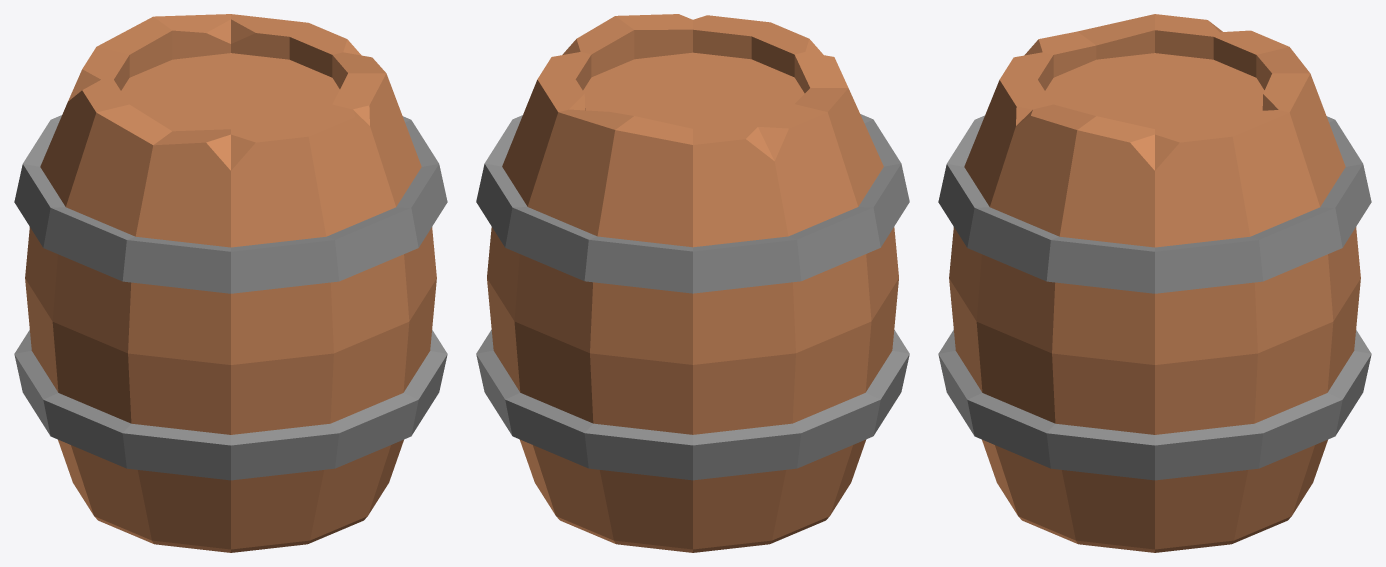
Rendered from oka.fbx.
3 views of the same model, side by side, from view 1: azimuth 30°, elevation 25°; view 2: azimuth 150°, elevation 25°; view 3: azimuth 270°, elevation 25° (orthographic).
Parts seen in each view (by area): view 1: Cylinder.007; view 2: Cylinder.007; view 3: Cylinder.007.
Part boxes in pixels (left/top/right/bottom): Cylinder.007: left=14, top=14, right=447, bottom=552; Cylinder.007: left=476, top=14, right=909, bottom=552; Cylinder.007: left=938, top=14, right=1371, bottom=552.
Size of the model in its own units: 0.4168 by 0.4426 by 0.4168.
